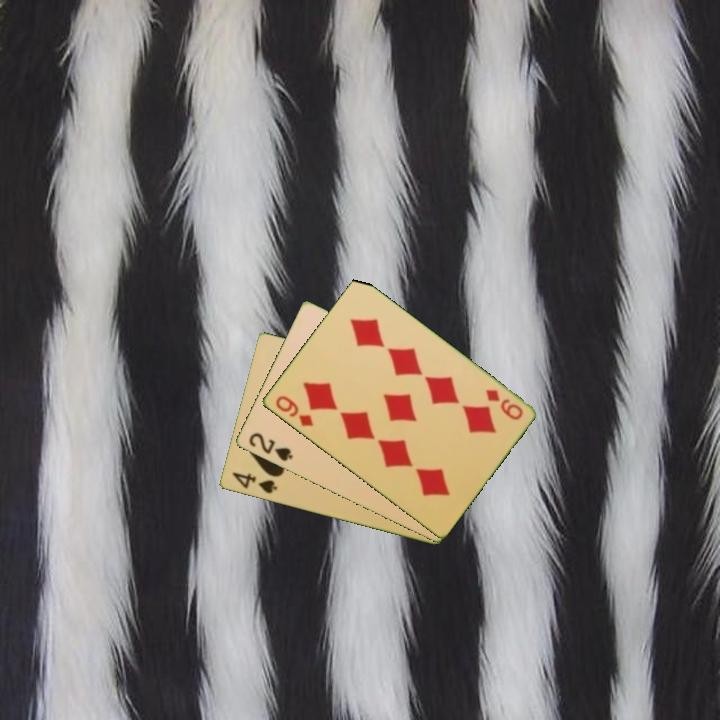2s: (245, 429, 295, 464)
4s: (228, 469, 280, 497)
9d: (271, 392, 316, 429), (481, 386, 526, 423)
